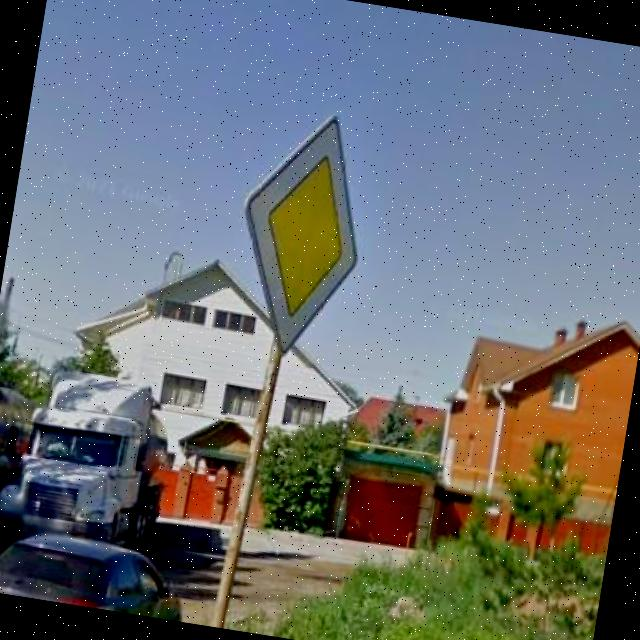Droga z pierwszenstwem: (224, 101, 382, 364)
